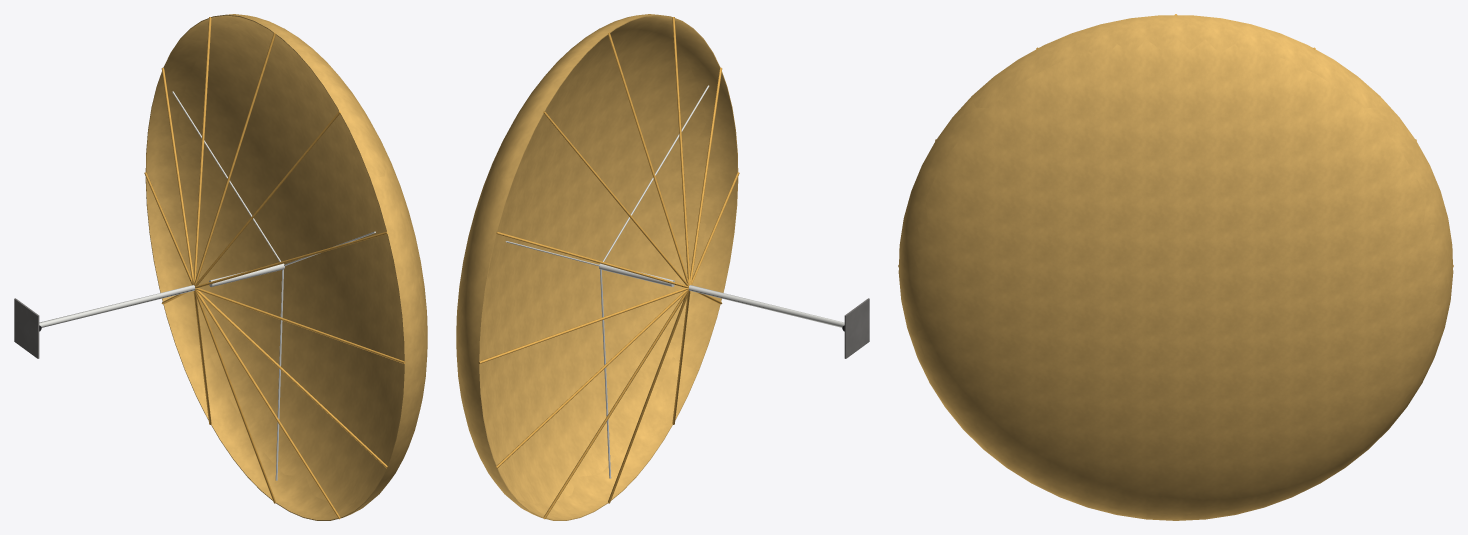
File: power16_mesh_antenna_xl_deployed.glb
The picture shows the model from 3 angles, left to right: view 1: azimuth 30°, elevation 25°; view 2: azimuth 150°, elevation 25°; view 3: azimuth 270°, elevation 25°; orthographic projection. The views are drawn at different scales.
Visible parts, largest first — view 1: dish_mesh, dish_ribs, feed, mount, boom; view 2: dish_mesh, dish_ribs, feed, mount, boom; view 3: dish_mesh.
Boxes of the visible parts, box(x1,y1,x2,y2) form: dish_mesh: box(145, 14, 427, 520); dish_ribs: box(144, 17, 405, 519); feed: box(172, 91, 375, 480); mount: box(14, 298, 39, 358); boom: box(39, 285, 195, 327); dish_mesh: box(456, 14, 738, 520); dish_ribs: box(478, 17, 739, 519); feed: box(505, 85, 709, 478); mount: box(844, 298, 869, 358); boom: box(688, 285, 844, 327); dish_mesh: box(898, 15, 1453, 520).
Size of the model in its own units: 8.82 by 12.02 by 12.02.
5 materials, 3 textured.
